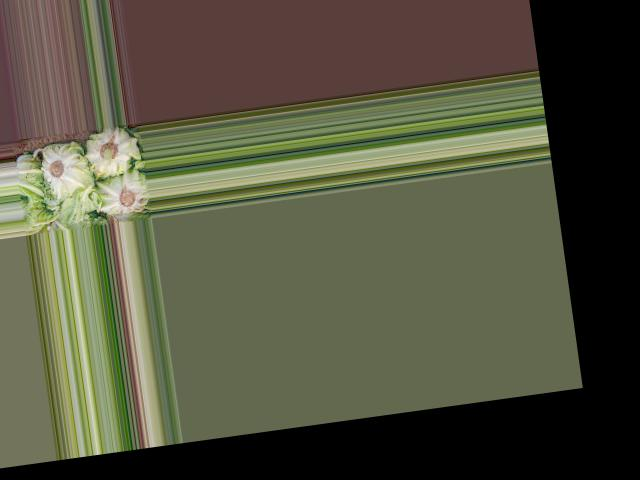lettuce: (95, 168, 151, 219)
